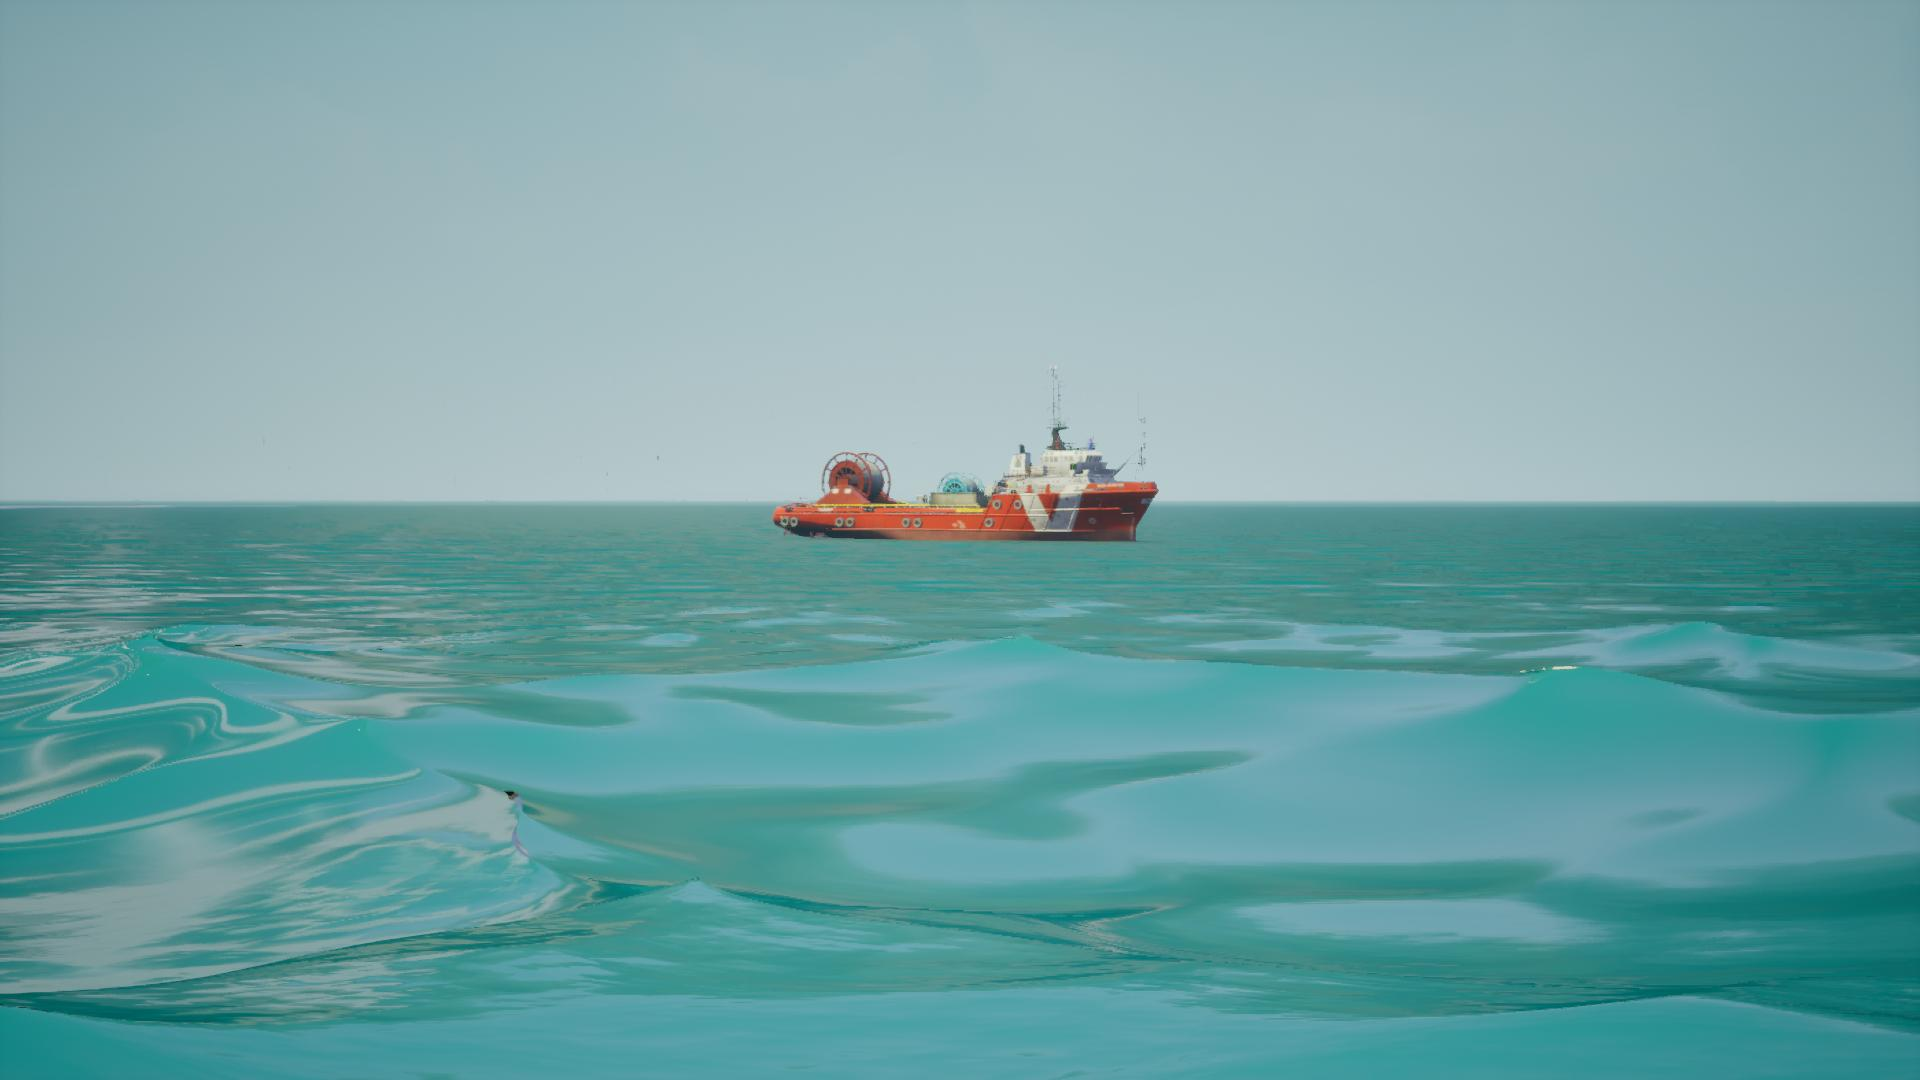Tug Boat: (774, 365, 1155, 545)
